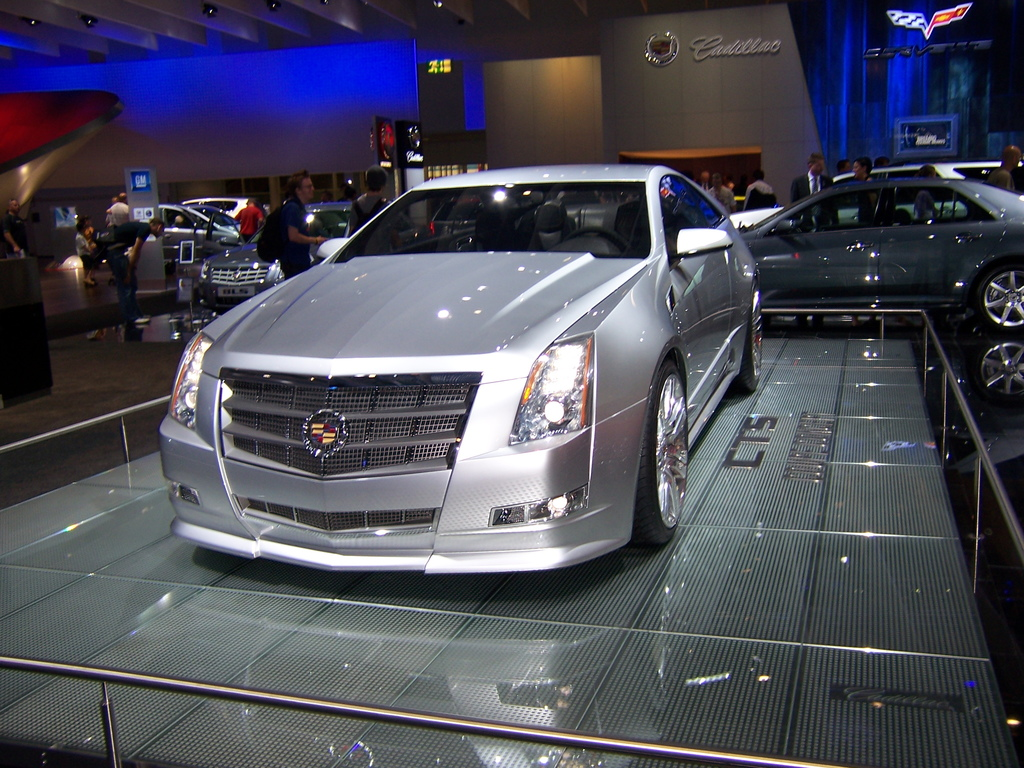person: (98, 213, 158, 329)
